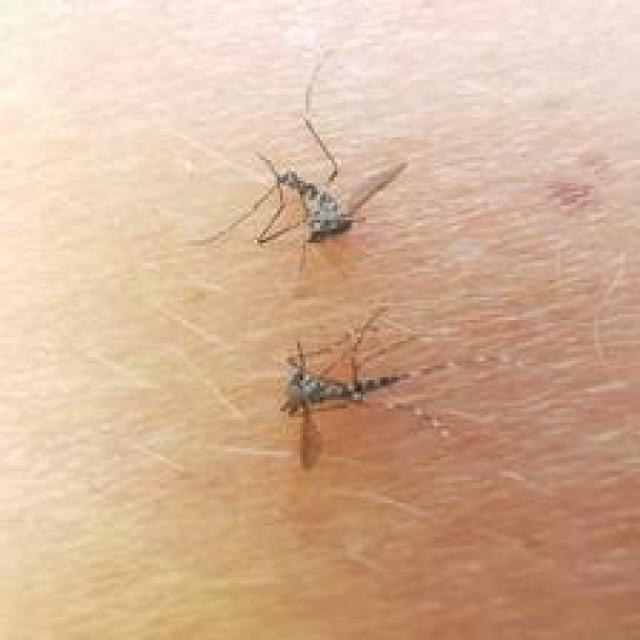Aedes albopictus: (274, 304, 449, 470)
